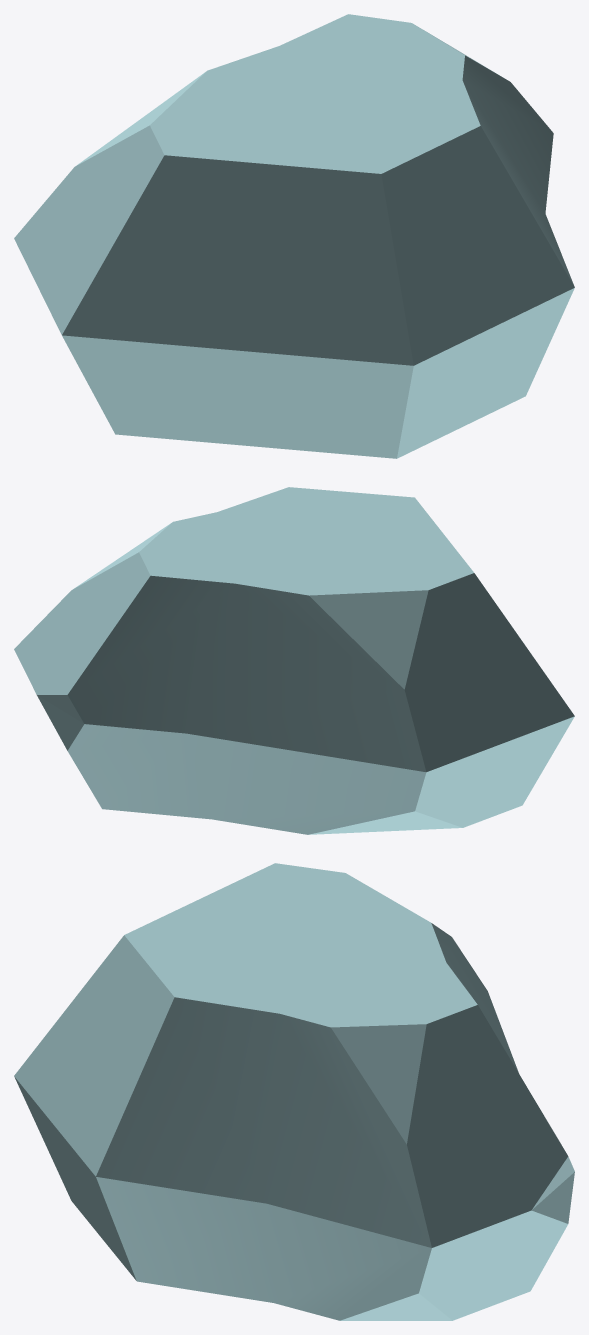
File: stone_large6.obj
3 views of the same model, one above another, from view 1: azimuth 30°, elevation 25°; view 2: azimuth 150°, elevation 25°; view 3: azimuth 270°, elevation 25° (orthographic). The views are drawn at different scales.
Visible parts, largest first — view 1: stone_large6; view 2: stone_large6; view 3: stone_large6.
Boxes of the visible parts, x1,y1,x2,y2 form: stone_large6: [14, 14, 574, 458]; stone_large6: [14, 487, 574, 834]; stone_large6: [14, 863, 574, 1320].
Size of the model in its own units: 10.95 by 4.79 by 8.99.
